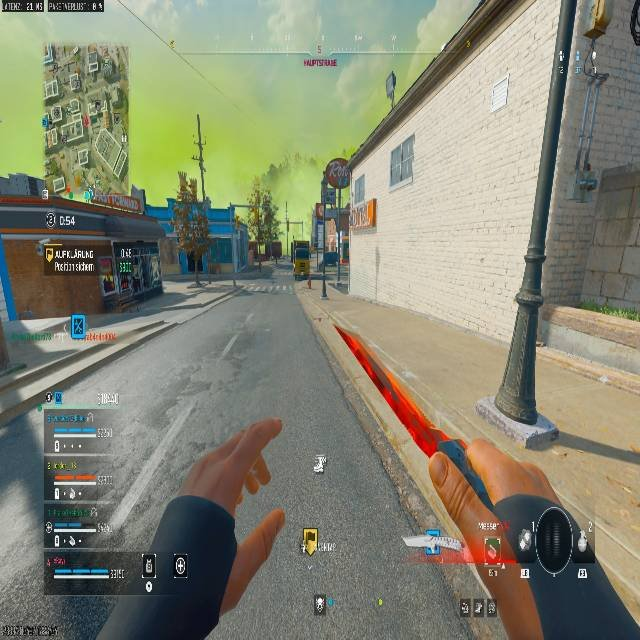player: (255, 254, 263, 271)
